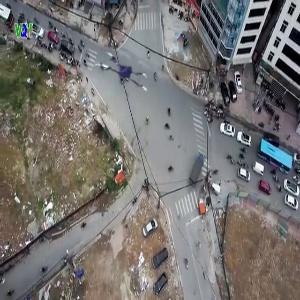drone: (92, 48, 151, 107)
